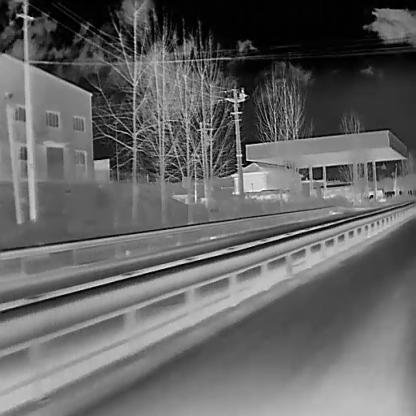car: (241, 188, 291, 203), (366, 186, 385, 202)
